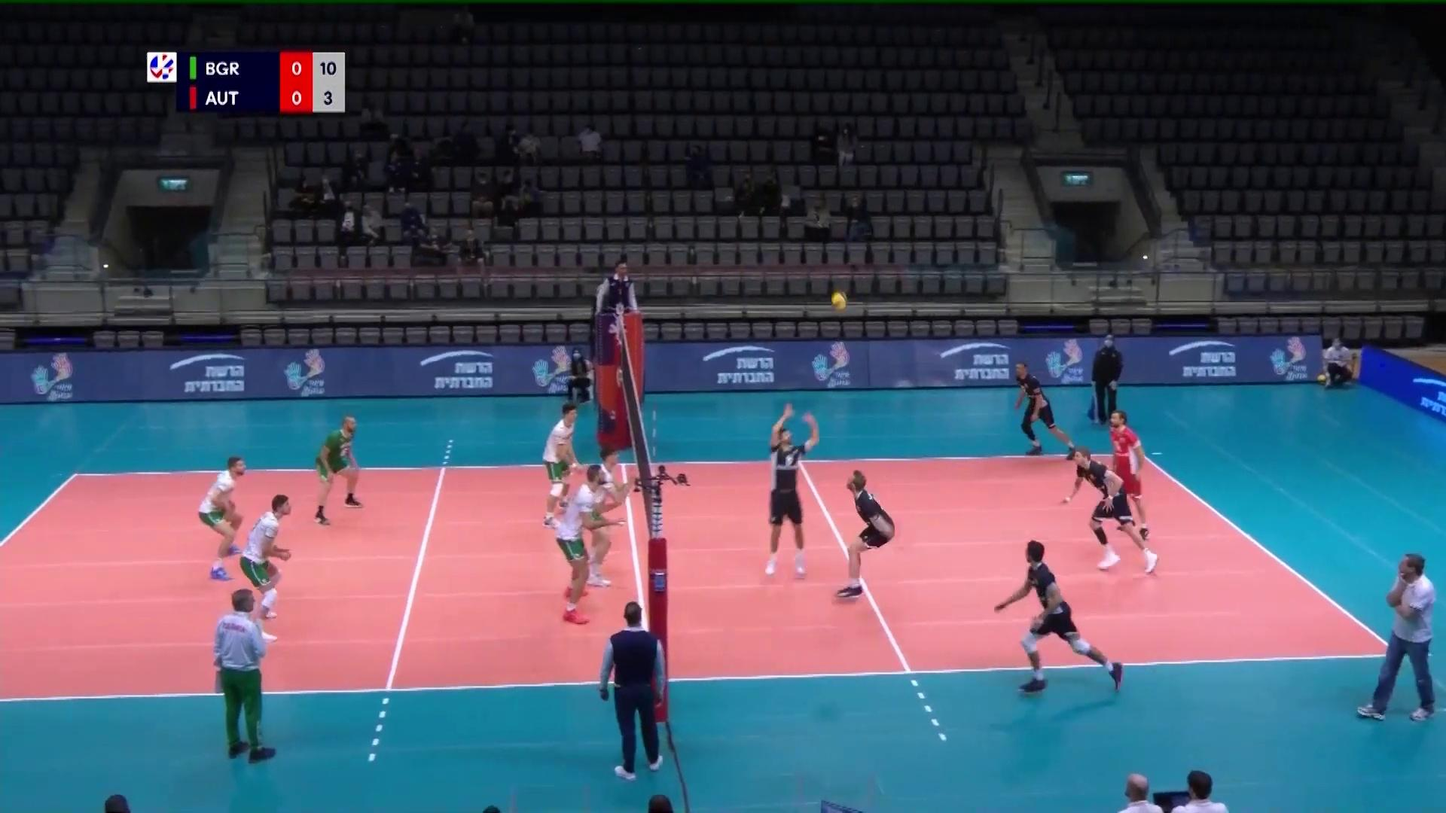ball: (826, 291, 849, 313)
